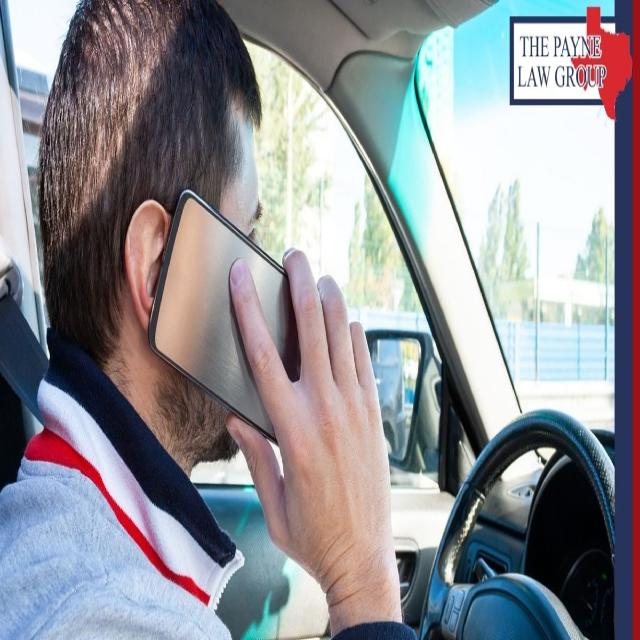phone: (145, 193, 321, 442)
